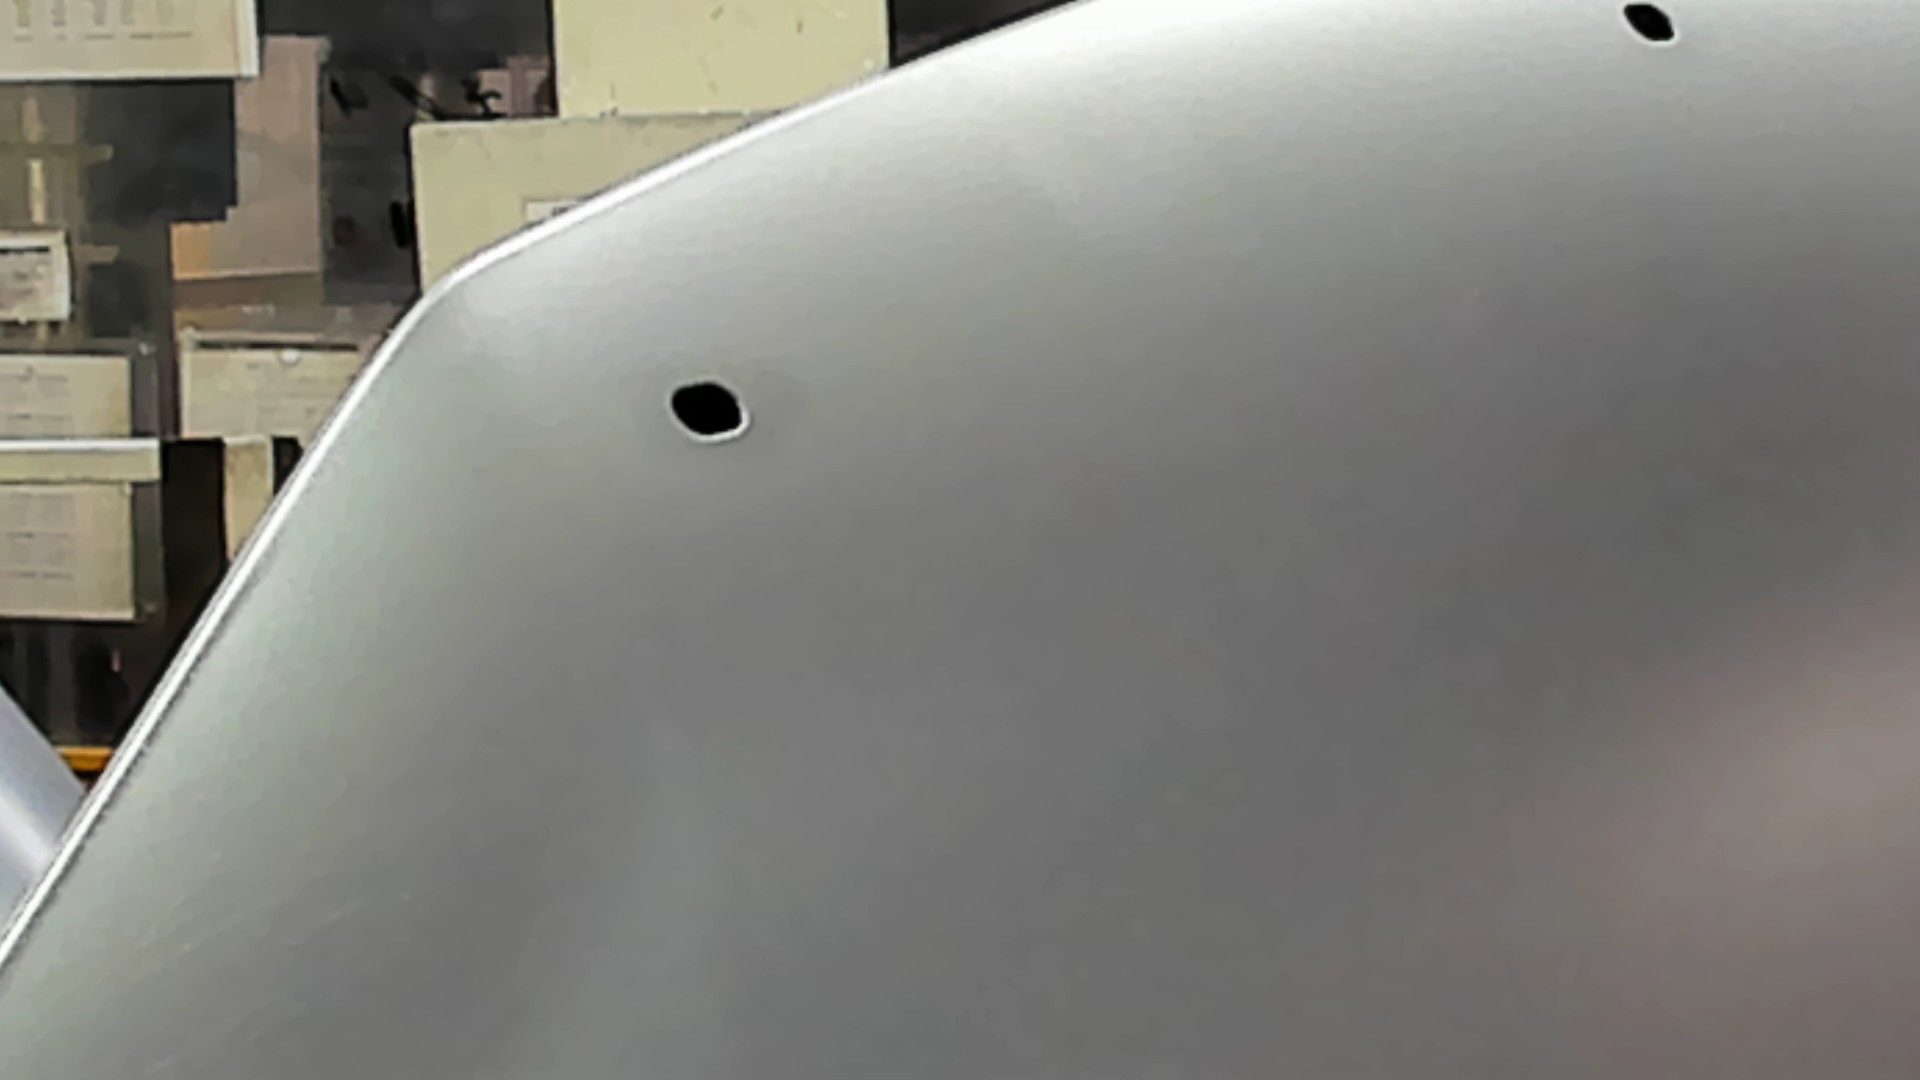amorfo: (661, 373, 754, 446), (1618, 1, 1680, 47)
capo: (800, 138, 1920, 1080)
